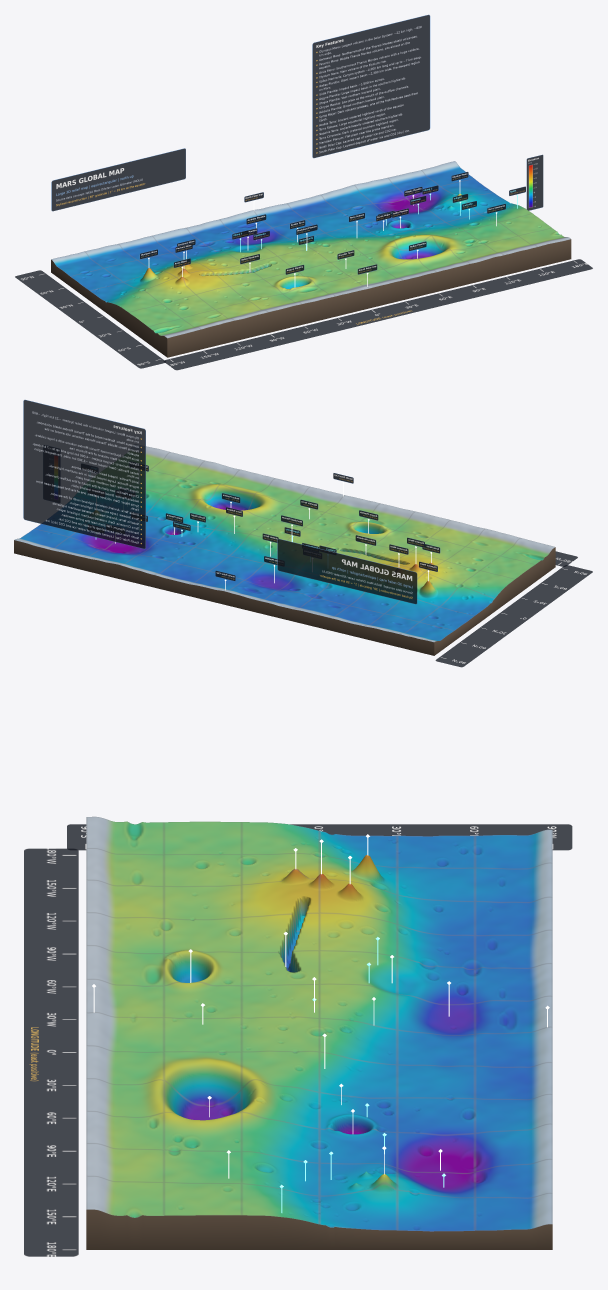
Rendered from 12_Mars_Global_Map_Large.glb.
3 renders of one model, top to bottom at view 1: azimuth 30°, elevation 25°; view 2: azimuth 150°, elevation 25°; view 3: azimuth 270°, elevation 25°, orthographic. The views are drawn at different scales.
Visible parts, largest first — view 1: Map_Surface, Info_KeyFeatures, Map_Walls, Info_LongitudeScale, Info_Title, Info_LatitudeScale, Info_ElevationLegend; view 2: Map_Surface, Info_KeyFeatures, Map_Walls, Info_Title, Info_LatitudeScale; view 3: Map_Surface, Info_LongitudeScale, Map_Walls, Info_LatitudeScale.
Part boxes in pixels (x1,y1,x2,y2): Map_Surface: (51, 161, 570, 338); Info_KeyFeatures: (312, 14, 430, 158); Map_Walls: (51, 239, 571, 357); Info_LongitudeScale: (163, 259, 592, 370); Info_Title: (51, 148, 185, 211); Info_LatitudeScale: (15, 270, 165, 368); Info_ElevationLegend: (526, 154, 543, 210); Map_Surface: (14, 444, 555, 642); Info_KeyFeatures: (23, 399, 145, 548); Map_Walls: (14, 540, 555, 655); Info_Title: (277, 539, 417, 604); Info_LatitudeScale: (435, 565, 592, 667); Map_Surface: (86, 816, 552, 1231); Info_LongitudeScale: (24, 848, 78, 1256); Map_Walls: (86, 1209, 552, 1249); Info_LatitudeScale: (67, 824, 572, 850).
Bounding box in the file's own units: 27.7 × 8.97 × 14.4.
Materials: 37 (34 with a texture image).
